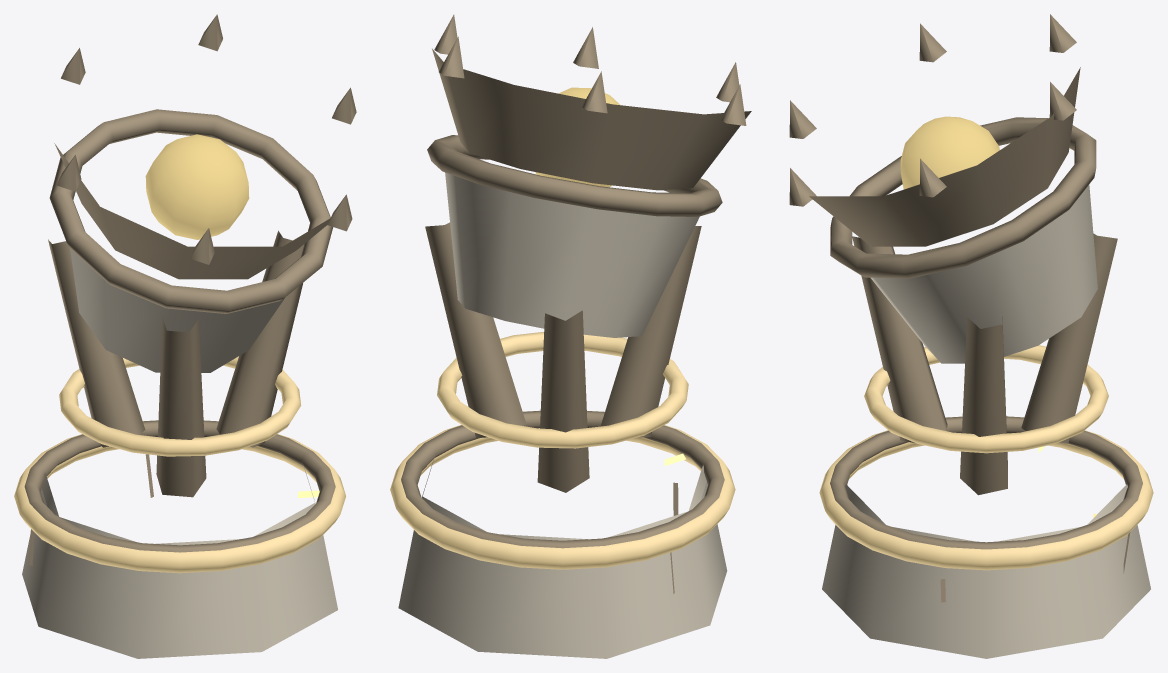
File: tower_mortar_2.glb
3 views of the same model, side by side, from view 1: azimuth 30°, elevation 25°; view 2: azimuth 150°, elevation 25°; view 3: azimuth 270°, elevation 25° (orthographic). The views are drawn at different scales.
Visible parts, largest first — view 1: turret, base; view 2: turret, base; view 3: turret, base.
Part boxes in pixels (<box>): turret: <box>48,14,356,497</box>; base: <box>14,356,345,658</box>; turret: <box>425,14,751,492</box>; base: <box>390,332,735,658</box>; turret: <box>789,14,1117,495</box>; base: <box>819,345,1153,658</box>.
Bounding box in the file's own units: 2.88 × 4.93 × 3.08.
